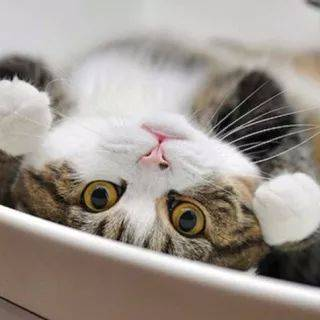cat: (16, 45, 288, 292)
